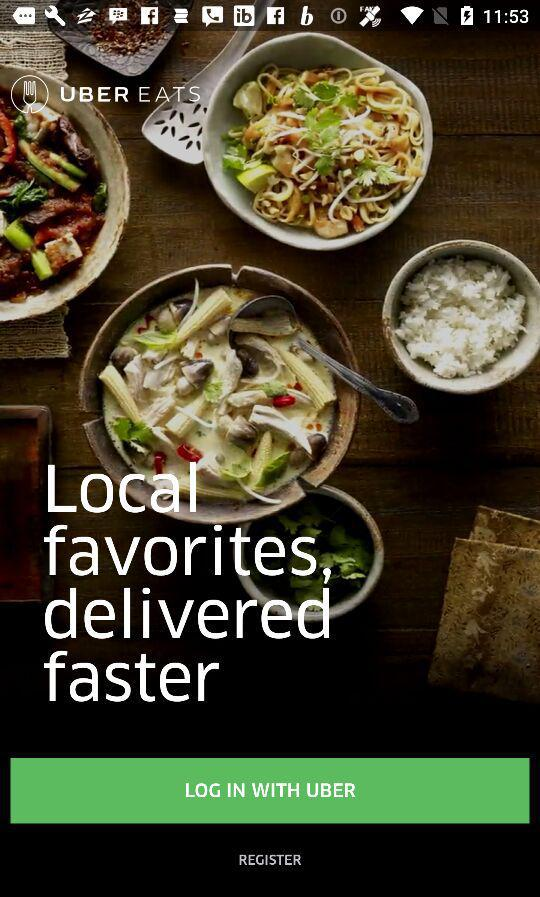BackgroundImage: (1, 33, 540, 897)
Image: (11, 75, 202, 115)
Text: (44, 460, 332, 704), (239, 854, 302, 866)
TextButton: (11, 758, 530, 824)
UpperTaskBar: (1, 1, 540, 33)
